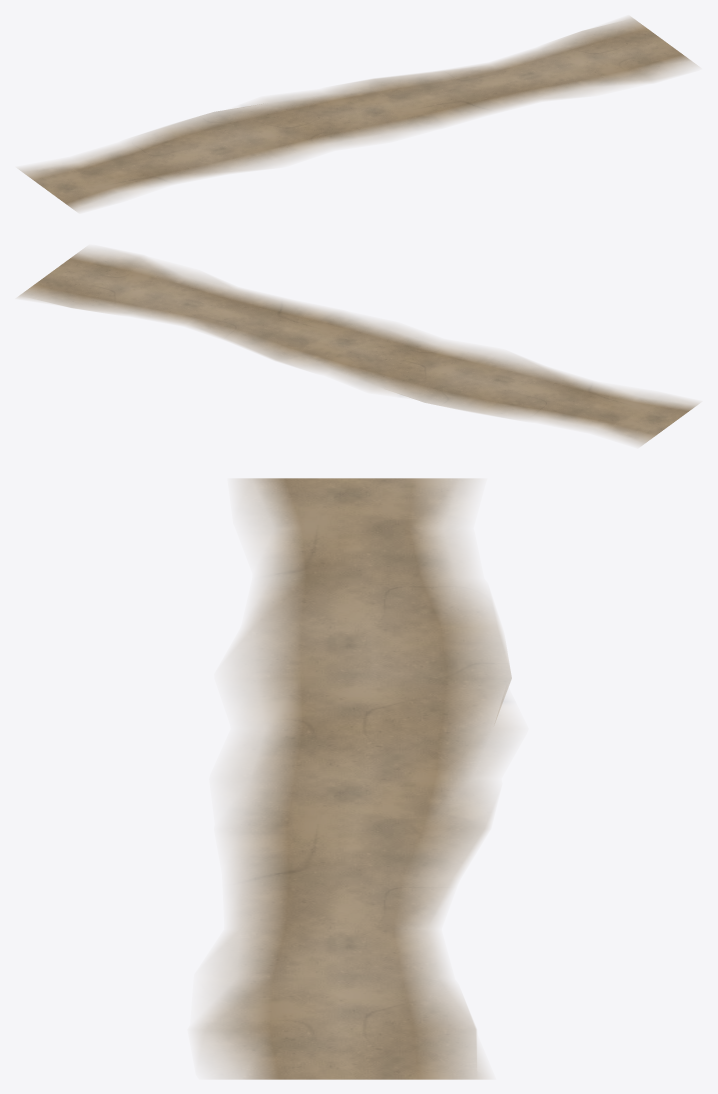
The model's file is road.glb.
3 renders of one model, top to bottom at view 1: azimuth 30°, elevation 25°; view 2: azimuth 150°, elevation 25°; view 3: azimuth 270°, elevation 25°, orthographic. The views are drawn at different scales.
Visible parts, largest first — view 1: road-road:10,9|9,9-level-1; view 2: road-road:10,9|9,9-level-1; view 3: road-road:10,9|9,9-level-1.
Part boxes in pixels (x1,y1,x2,y2): road-road:10,9|9,9-level-1: (18,16,697,211); road-road:10,9|9,9-level-1: (17,248,699,446); road-road:10,9|9,9-level-1: (195,478,513,1079).
Bounding box in the file's own units: 6 × 0.012 × 1.46.
Materials: 1 (1 with a texture image).
